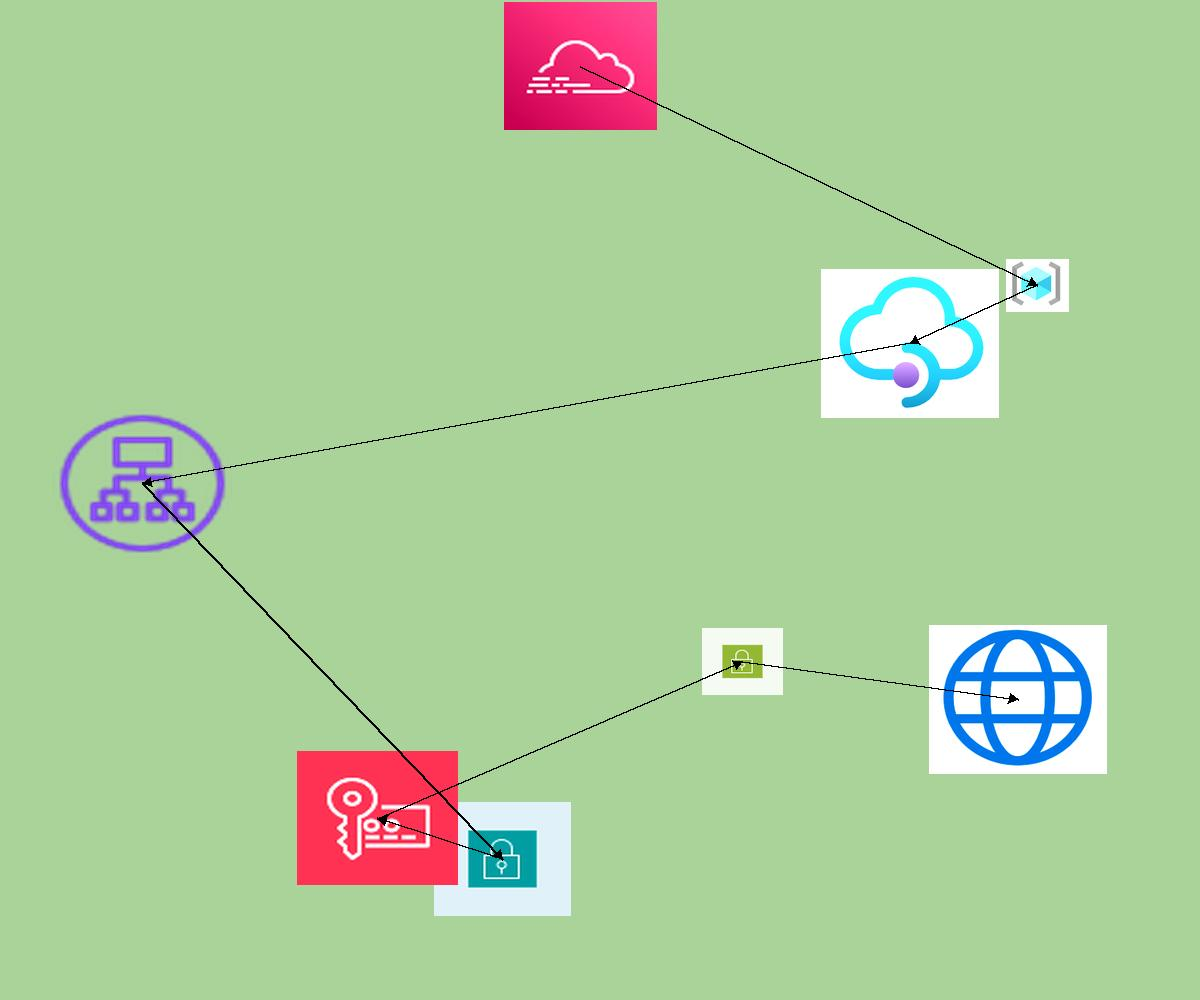AWS-CloudTrail: (504, 2, 657, 130)
AWS-Key-Management-Service: (297, 751, 458, 885)
AWS-Private-subnet: (434, 802, 571, 916)
AWS-Public-subnet: (702, 628, 783, 695)
AWS-Res_Elastic-Load-Balancing_Application-Load-Balancer: (53, 409, 232, 558)
Azure_api_gateway: (821, 269, 999, 418)
Azure_http: (929, 625, 1107, 774)
Azure_resource_group: (1006, 259, 1069, 312)
